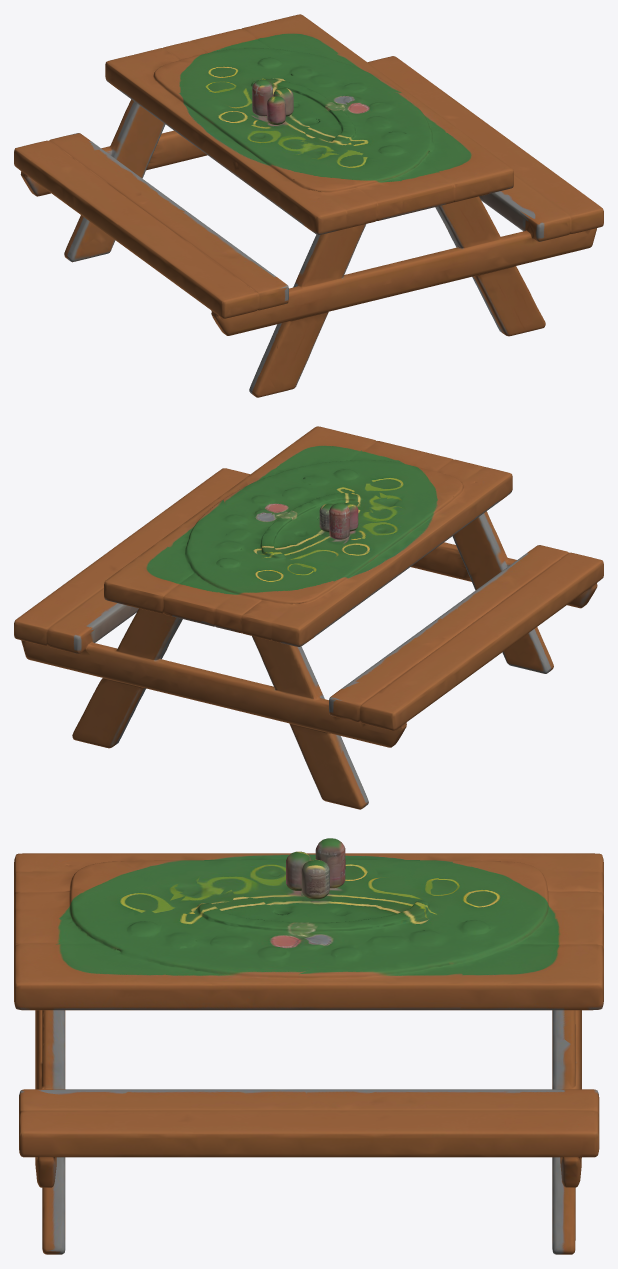
Rendered from picnic.glb.
The picture shows the model from 3 angles, top to bottom: view 1: azimuth 30°, elevation 25°; view 2: azimuth 150°, elevation 25°; view 3: azimuth 270°, elevation 25°; orthographic projection. The views are drawn at different scales.
Visible parts, largest first — view 1: tripo_node_5a74cf6d-0e6c-4a63-8cb4-992886481295; view 2: tripo_node_5a74cf6d-0e6c-4a63-8cb4-992886481295; view 3: tripo_node_5a74cf6d-0e6c-4a63-8cb4-992886481295.
Boxes of the visible parts, x1,y1,x2,y2 form: tripo_node_5a74cf6d-0e6c-4a63-8cb4-992886481295: (14,14,603,397); tripo_node_5a74cf6d-0e6c-4a63-8cb4-992886481295: (14,426,603,809); tripo_node_5a74cf6d-0e6c-4a63-8cb4-992886481295: (14,838,603,1254).
Bounding box in the file's own units: 0.9998 × 0.5357 × 0.9687.
1 material, 1 textured.
